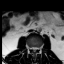CCS_normal: (33, 44, 35, 53)
LFS_normal: (37, 44, 40, 51)
LLS_normal: (35, 45, 37, 52)
RFS_normal: (29, 44, 31, 51)
RLS_normal: (31, 44, 33, 52)
